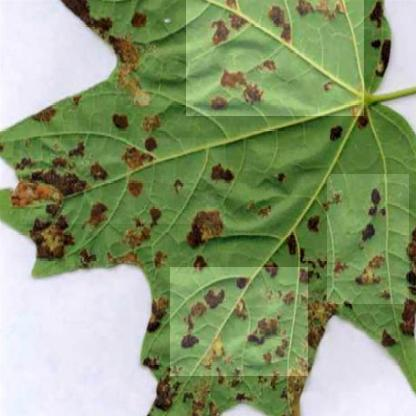black-spot: (186, 0, 364, 116), (20, 138, 226, 224), (170, 267, 308, 376), (328, 174, 410, 304)
